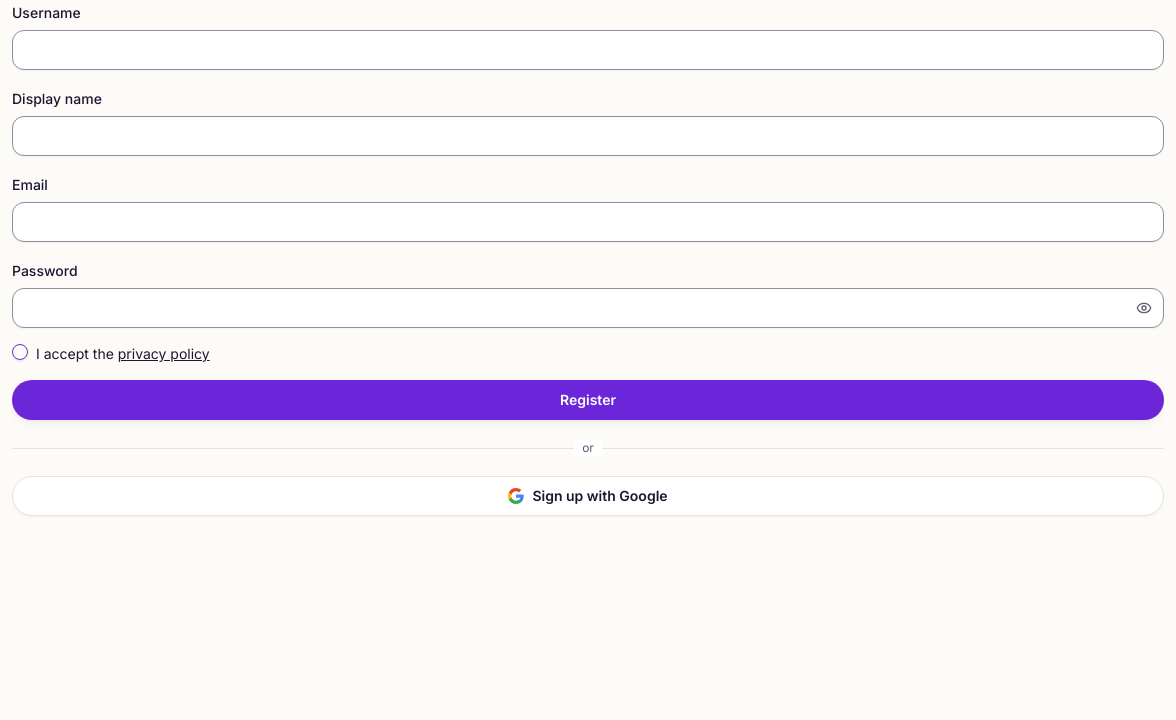
it: RegisterForm › shows validation error for short password
Type "new@example.com" into the field with test id "email-input" at (588, 222), box [12, 202, 1164, 242]
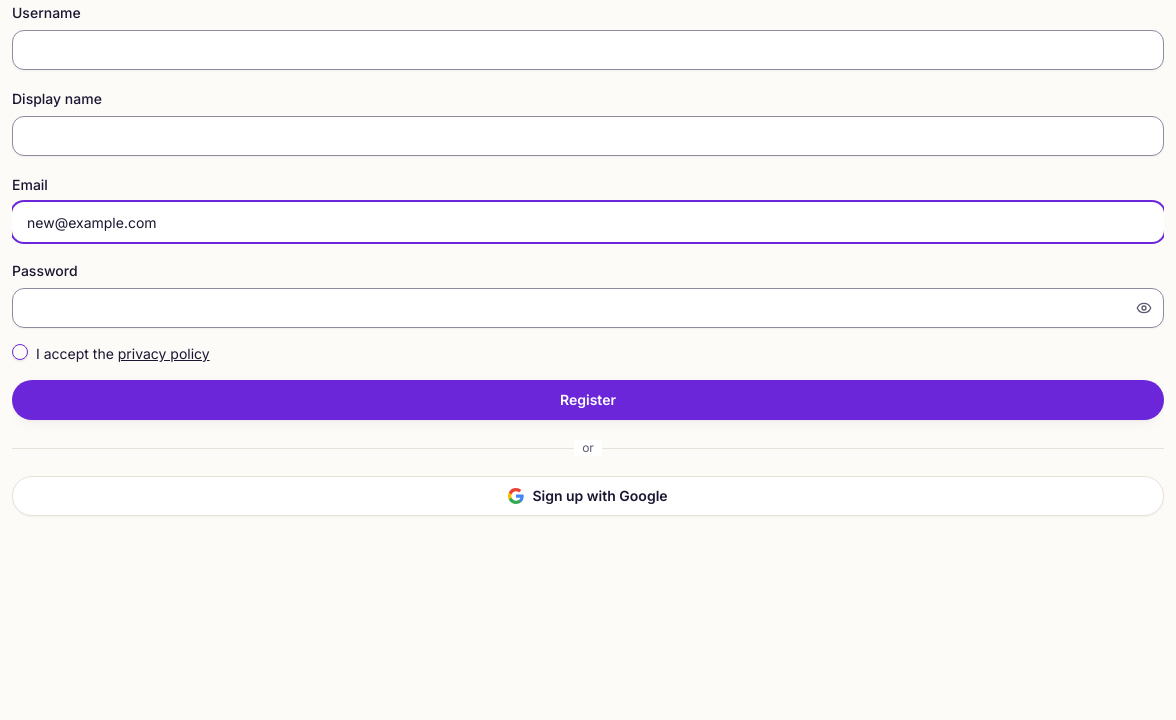
Type "New User" into the field with test id "display-name-input" at (588, 136), box [12, 116, 1164, 156]
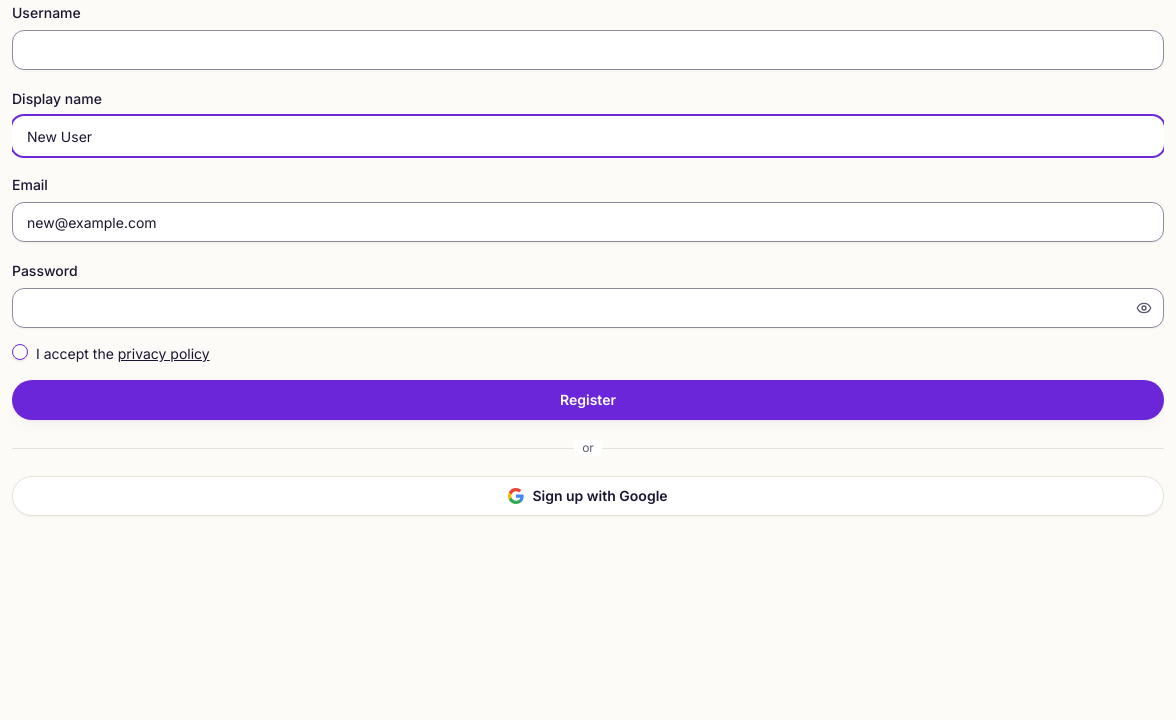
Type "newuser" into the field with test id "username-input" at (588, 50), box [12, 30, 1164, 70]
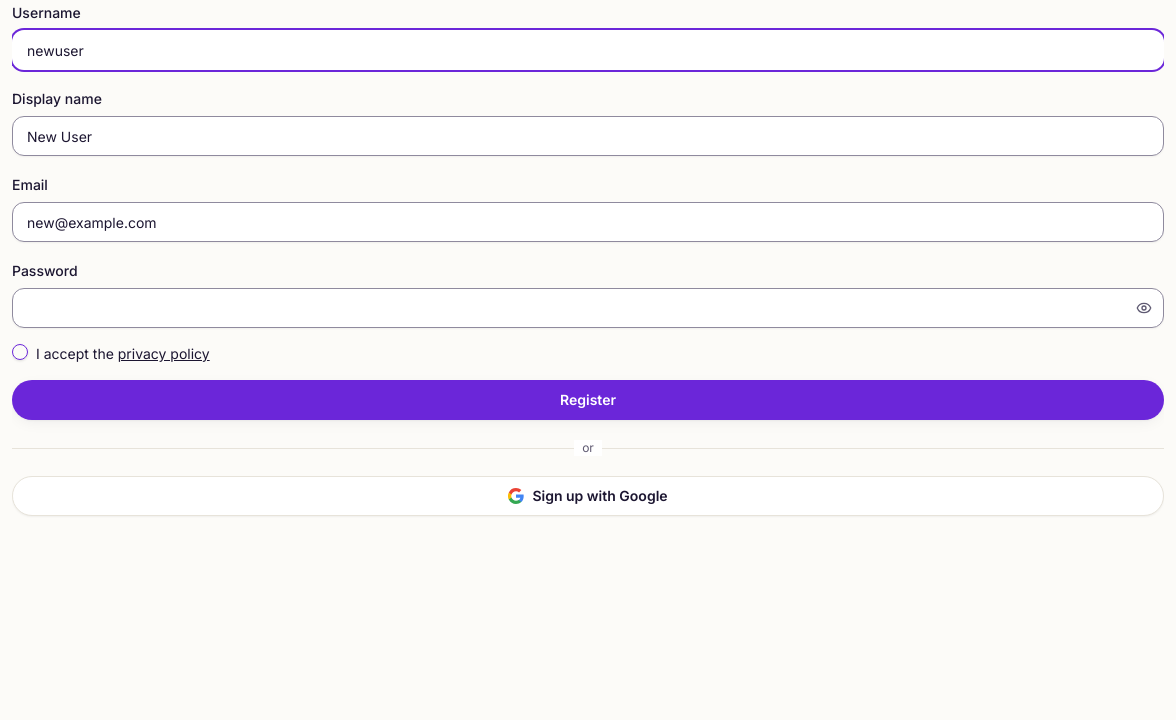
Type "short" into the password field with test id "password-input" at (588, 308), box [12, 288, 1164, 328]
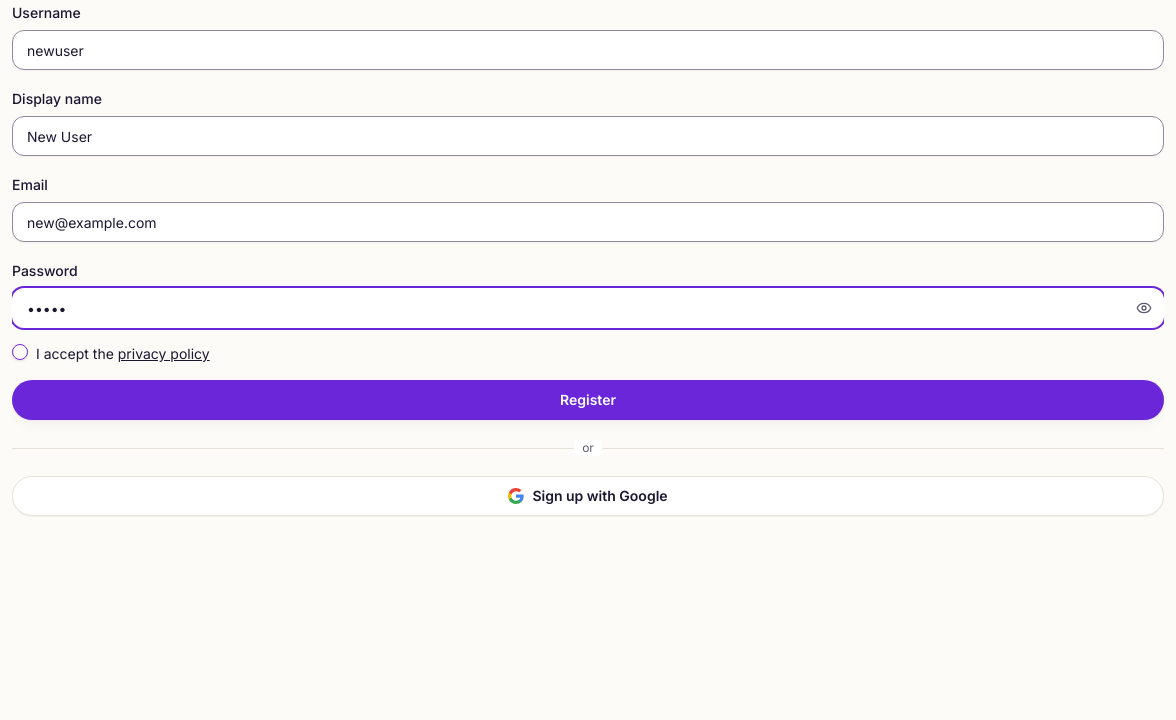
Click the checkbox with test id "accept-policy-checkbox" at (20, 352), box [12, 344, 28, 360]
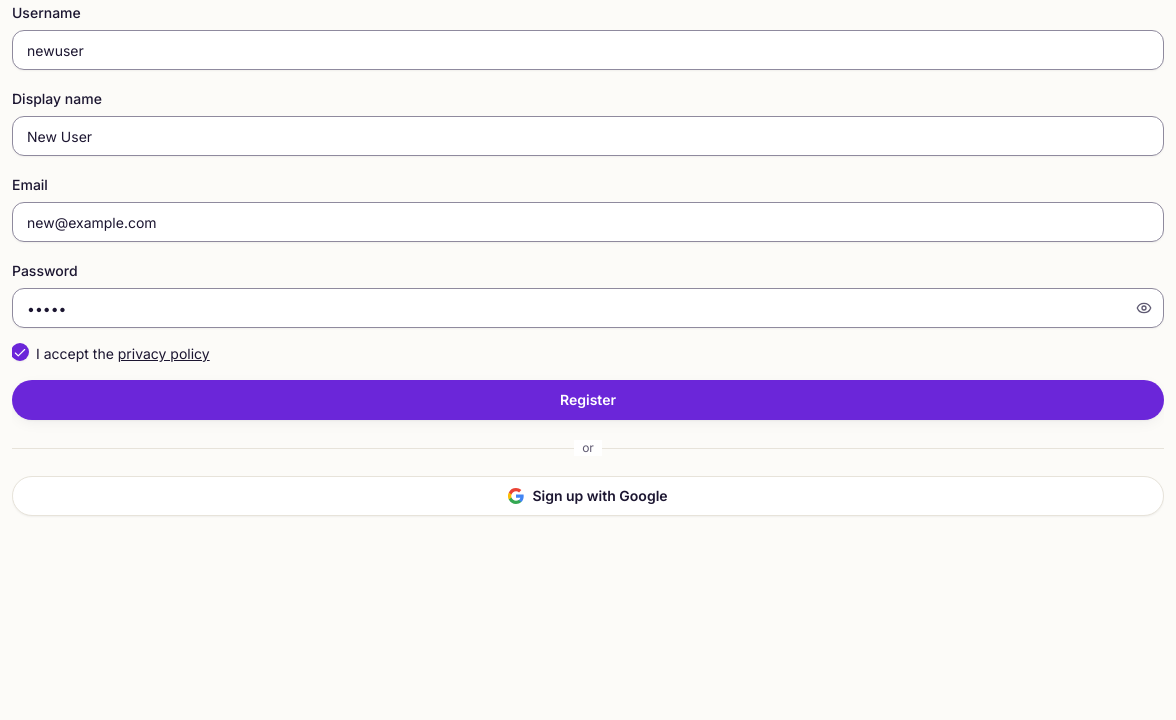
Click the button with test id "submit-button" at (588, 400), box [12, 380, 1164, 420]
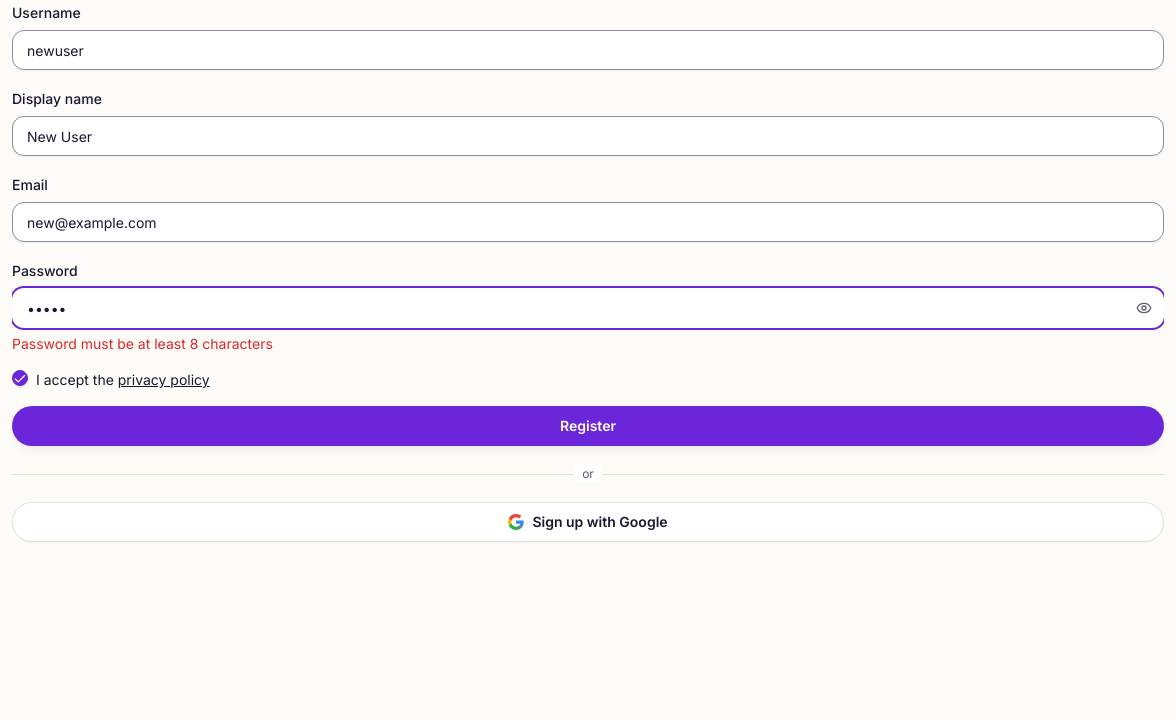
Result: the text "Password must be at least 8 characters" is shown at [12, 335, 273, 352]
